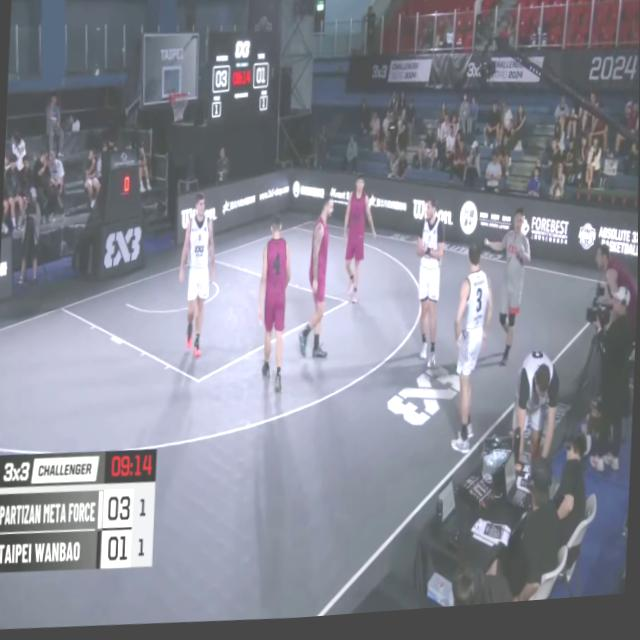hoop: (167, 91, 194, 132)
player: (447, 243, 496, 466), (176, 193, 218, 364), (253, 215, 290, 398), (303, 200, 339, 369), (413, 207, 447, 379), (342, 181, 376, 314)
